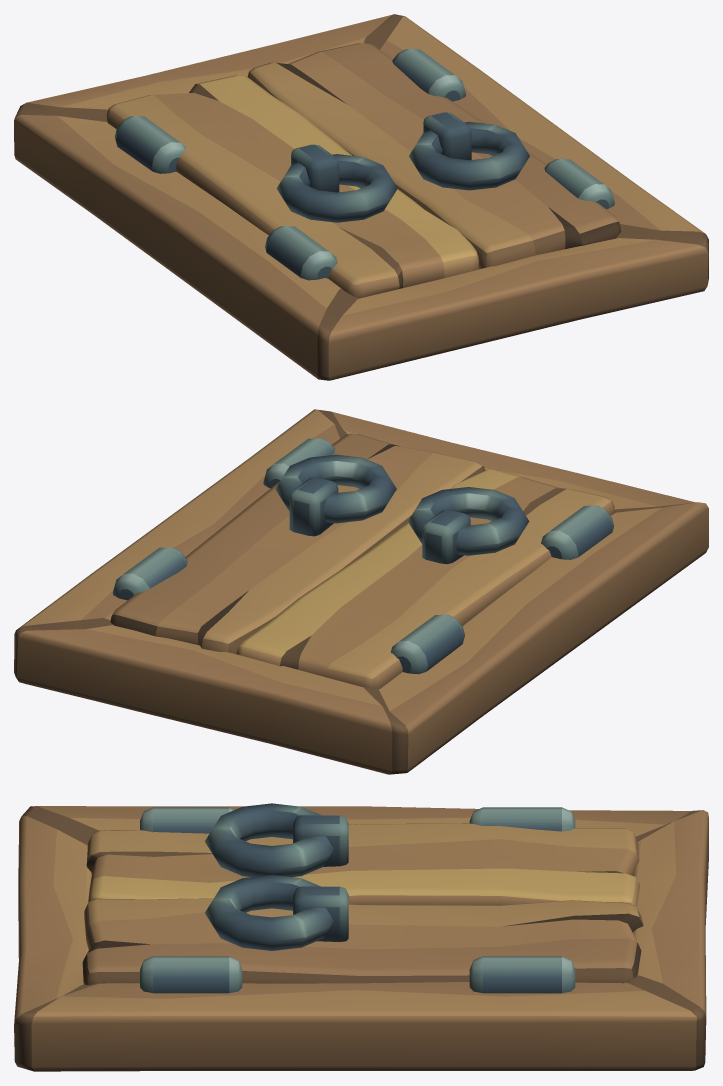
The model's file is tavern_cellar_trapdoor.fbx.
The picture shows the model from 3 angles, top to bottom: view 1: azimuth 30°, elevation 25°; view 2: azimuth 150°, elevation 25°; view 3: azimuth 270°, elevation 25°; orthographic projection. The views are drawn at different scales.
Parts seen in each view (by area): view 1: tavern_cellar_trapdoor_LOD0, tavern_cellar_trapdoor_left_LOD0, tavern_cellar_trapdoor_right_LOD0; view 2: tavern_cellar_trapdoor_LOD0, tavern_cellar_trapdoor_left_LOD0, tavern_cellar_trapdoor_right_LOD0; view 3: tavern_cellar_trapdoor_LOD0, tavern_cellar_trapdoor_right_LOD0, tavern_cellar_trapdoor_left_LOD0.
Part boxes in pixels (<box>): tavern_cellar_trapdoor_LOD0: <box>14,14,708,380</box>; tavern_cellar_trapdoor_left_LOD0: <box>106,75,479,298</box>; tavern_cellar_trapdoor_right_LOD0: <box>247,43,621,269</box>; tavern_cellar_trapdoor_LOD0: <box>14,409,708,774</box>; tavern_cellar_trapdoor_left_LOD0: <box>236,469,614,689</box>; tavern_cellar_trapdoor_right_LOD0: <box>110,433,485,653</box>; tavern_cellar_trapdoor_LOD0: <box>14,806,708,1071</box>; tavern_cellar_trapdoor_right_LOD0: <box>82,875,643,985</box>; tavern_cellar_trapdoor_left_LOD0: <box>86,803,639,906</box>.
Size of what is drawn, in the model's own units: 154 by 37.97 by 212.
